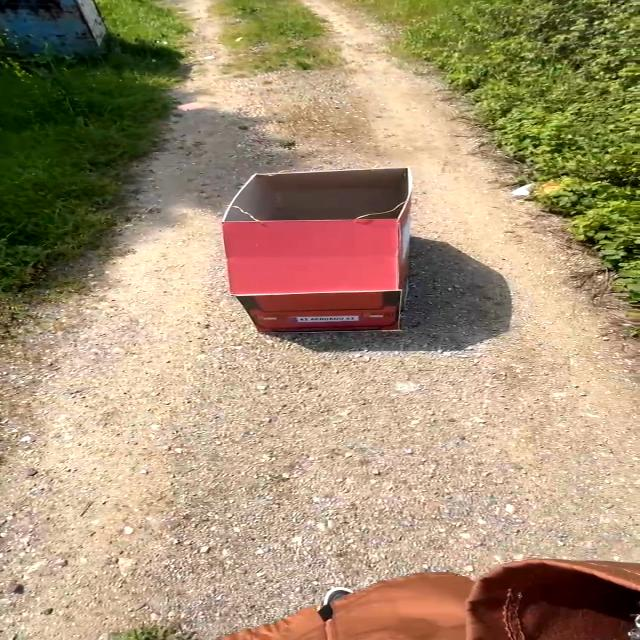red_car: (190, 157, 442, 357)
